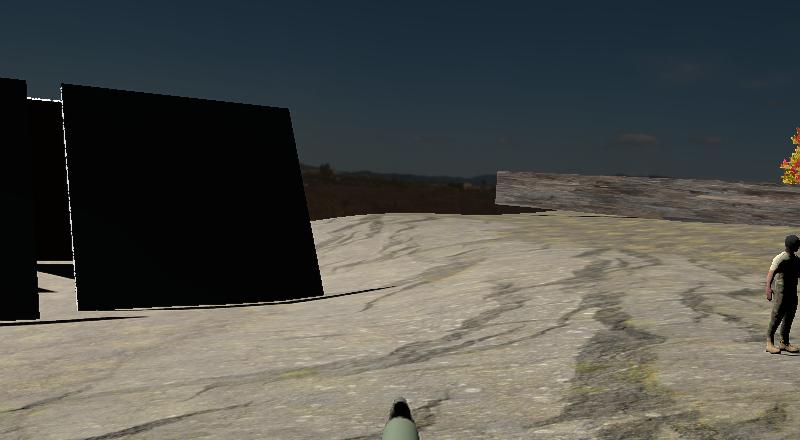Human: (760, 228, 800, 357)
